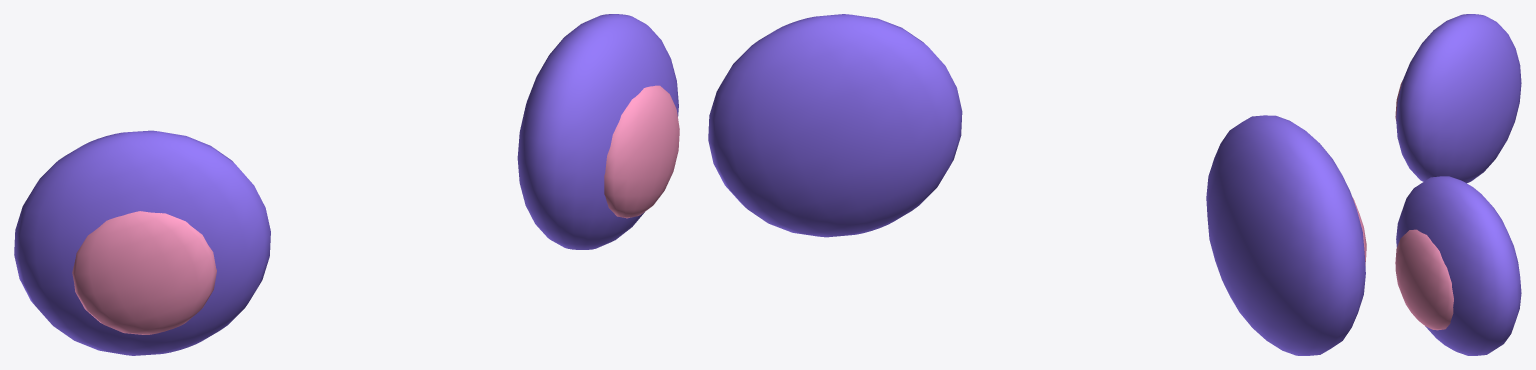
The model's file is ears-bear.glb.
The picture shows the model from 3 angles, left to right: view 1: azimuth 30°, elevation 25°; view 2: azimuth 150°, elevation 25°; view 3: azimuth 270°, elevation 25°; orthographic projection. The views are drawn at different scales.
Visible parts, largest first — view 1: ears-bear-mesh; view 2: ears-bear-mesh; view 3: ears-bear-mesh.
Boxes of the visible parts, x1,y1,x2,y2 form: ears-bear-mesh: [14, 14, 679, 355]; ears-bear-mesh: [708, 14, 1366, 355]; ears-bear-mesh: [1395, 14, 1521, 355].
Bounding box in the file's own units: 1.63 × 0.5212 × 0.3671.
